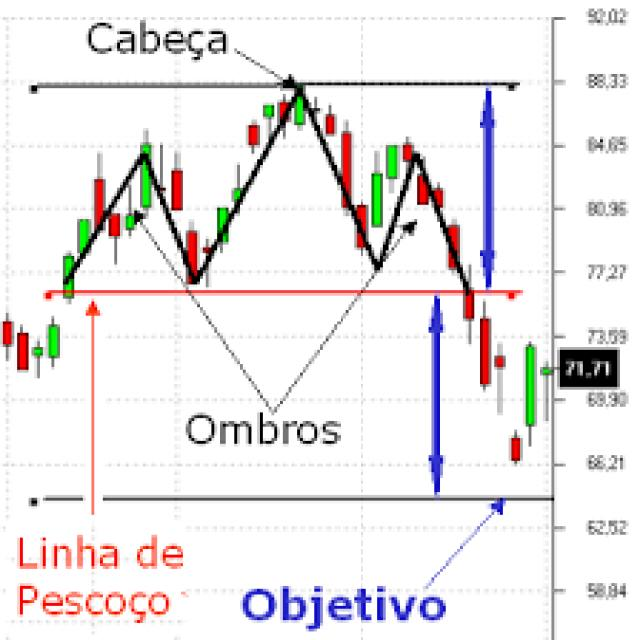oco: (0, 45, 556, 473)
